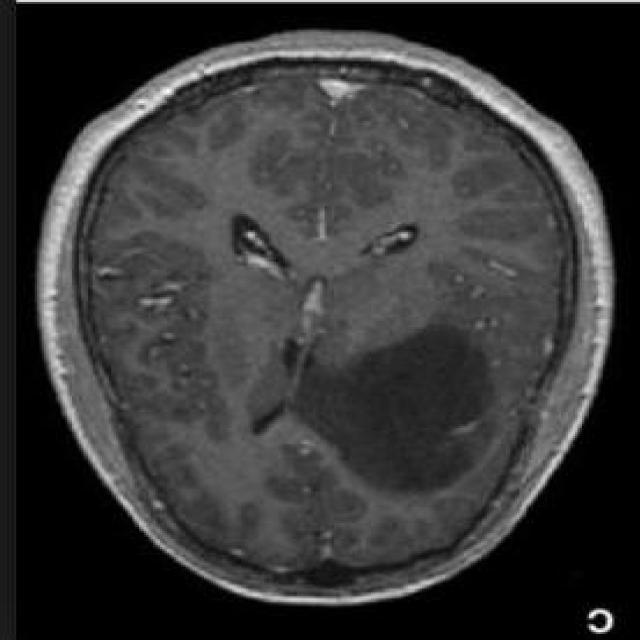brain tumor: (290, 321, 503, 497)
